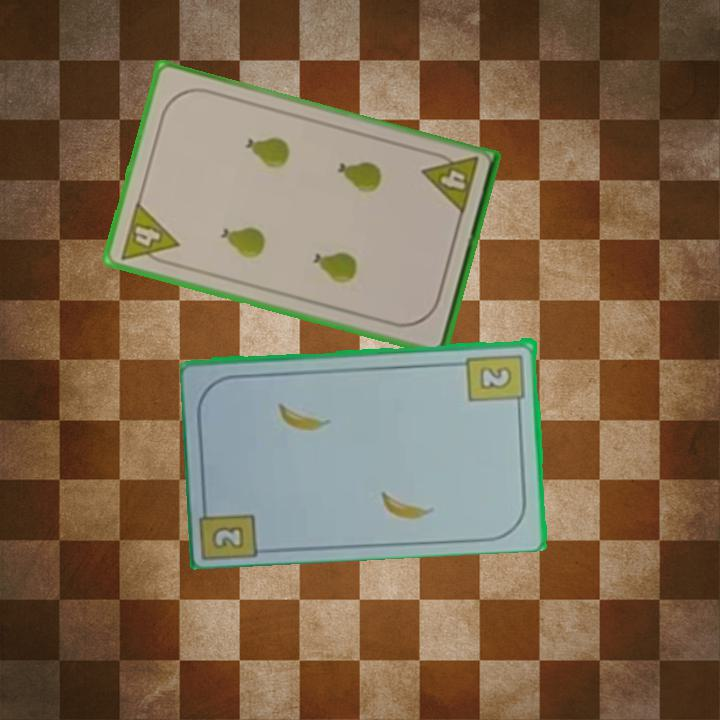2b: (464, 350, 528, 411), (211, 522, 248, 551)
4p: (116, 198, 182, 270), (419, 147, 481, 218)
